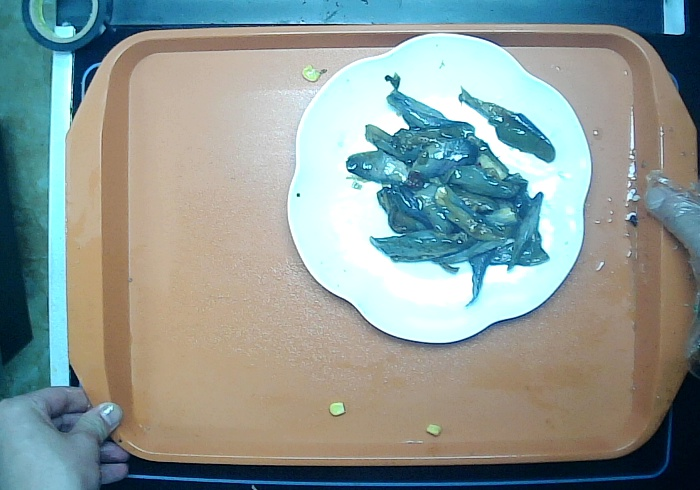HZYJPL-Bai_Se_Hua_Duo_Wan: (285, 32, 593, 345)
